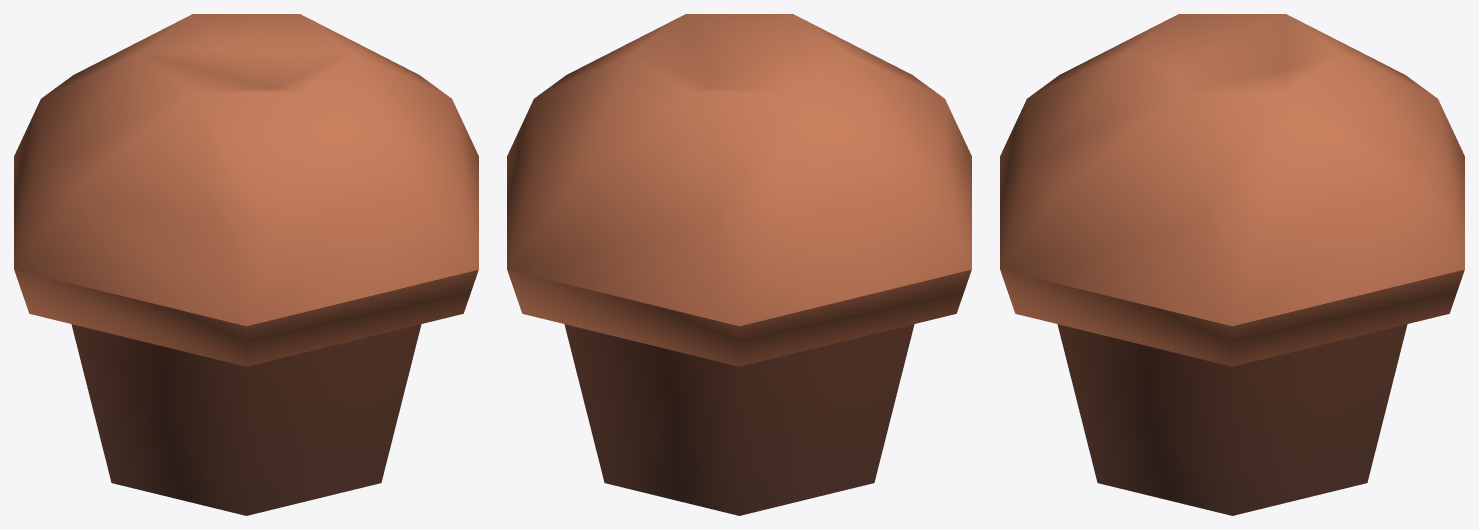
Rendered from muffin.glb.
3 renders of one model, left to right at view 1: azimuth 30°, elevation 25°; view 2: azimuth 150°, elevation 25°; view 3: azimuth 270°, elevation 25°, orthographic.
Parts seen in each view (by area): view 1: muffin; view 2: muffin; view 3: muffin.
Part boxes in pixels (x1,y1,x2,y2): muffin: (14, 14, 478, 515); muffin: (507, 14, 971, 515); muffin: (1000, 14, 1464, 515).
Size of the model in its own units: 0.3047 by 0.2486 by 0.2639.
